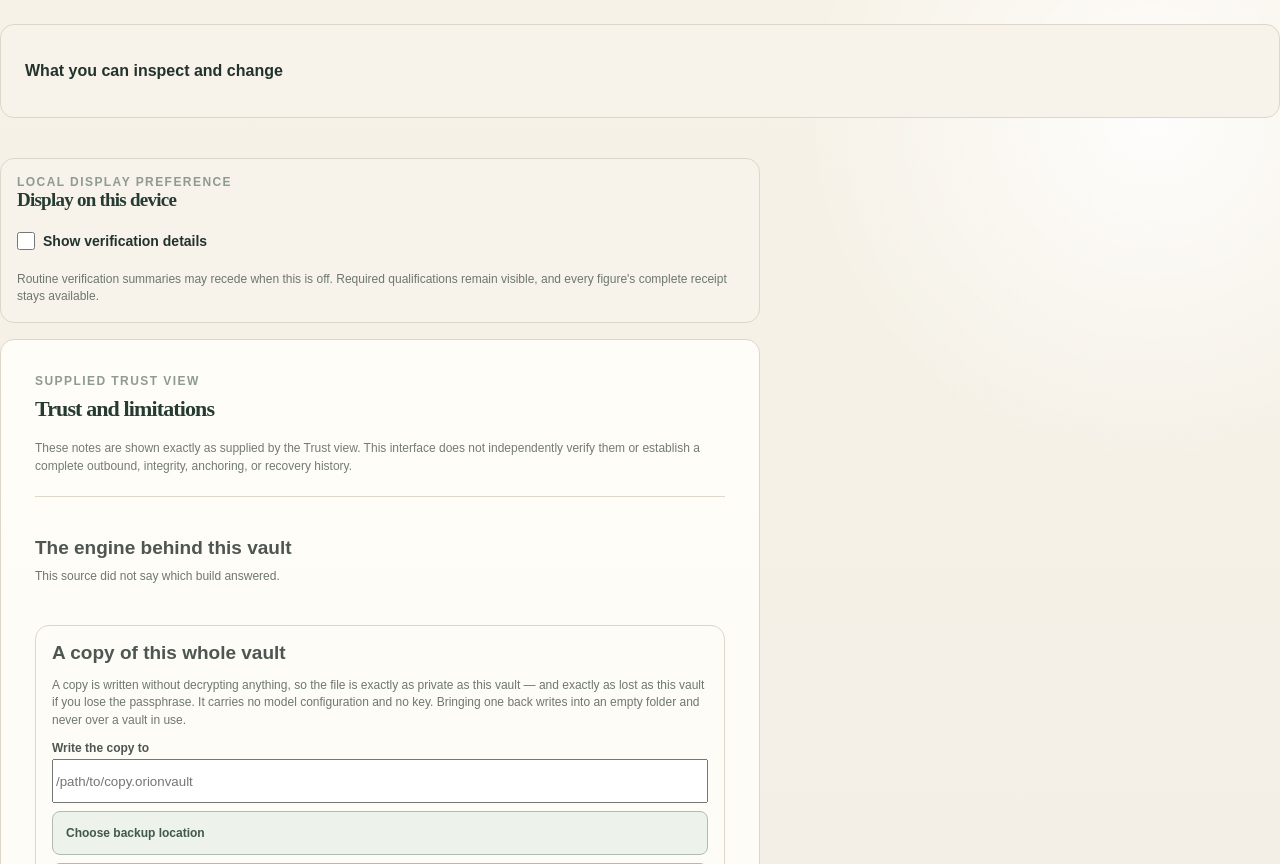
Test: a copy of a whole vault › preserves cancellation and makes chooser errors retryable without exposing details
The image size is (1280, 864).
Type "/copies/manual.orionvault" into the field labelled "Write the copy to" at (380,781), box [52,759,708,803]
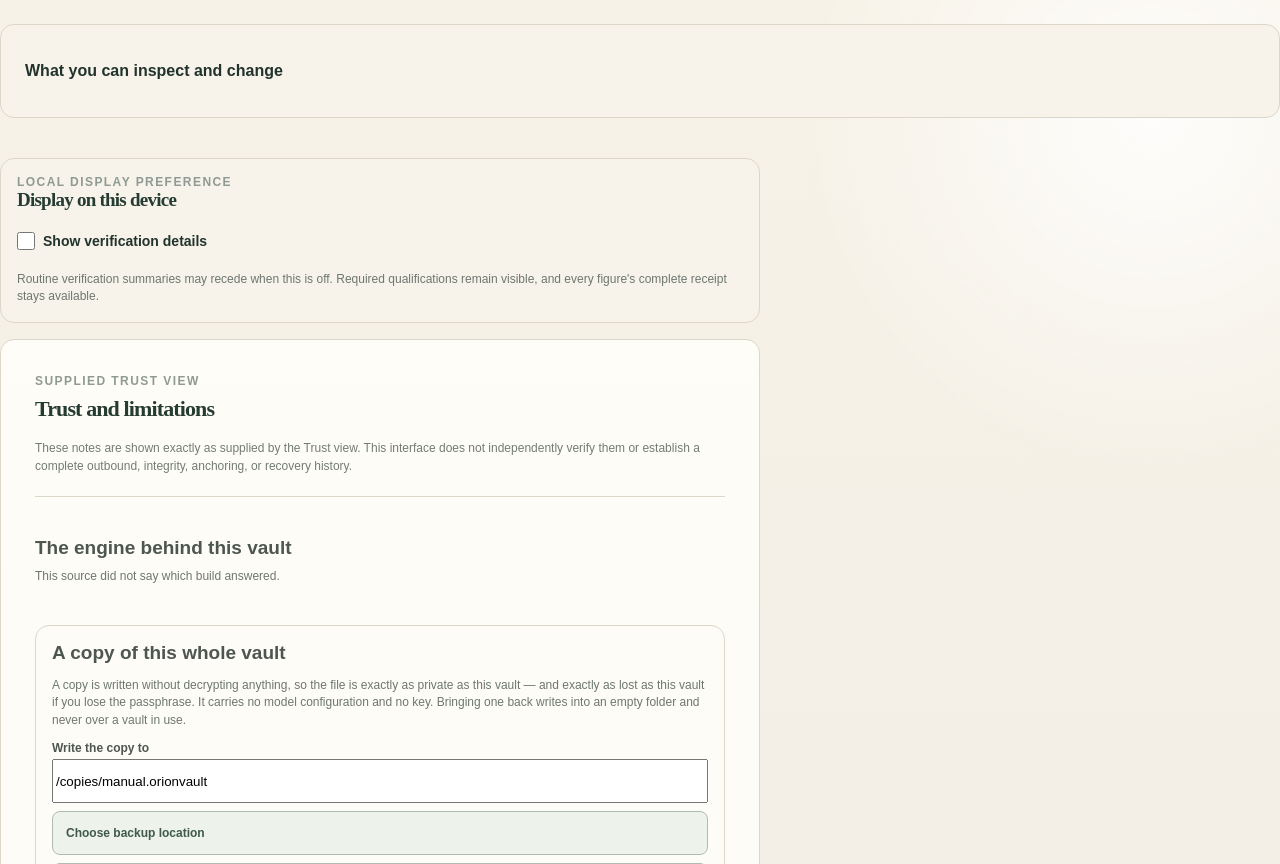
Click the button "Choose backup location" at (135,833), box [52,811,708,855]
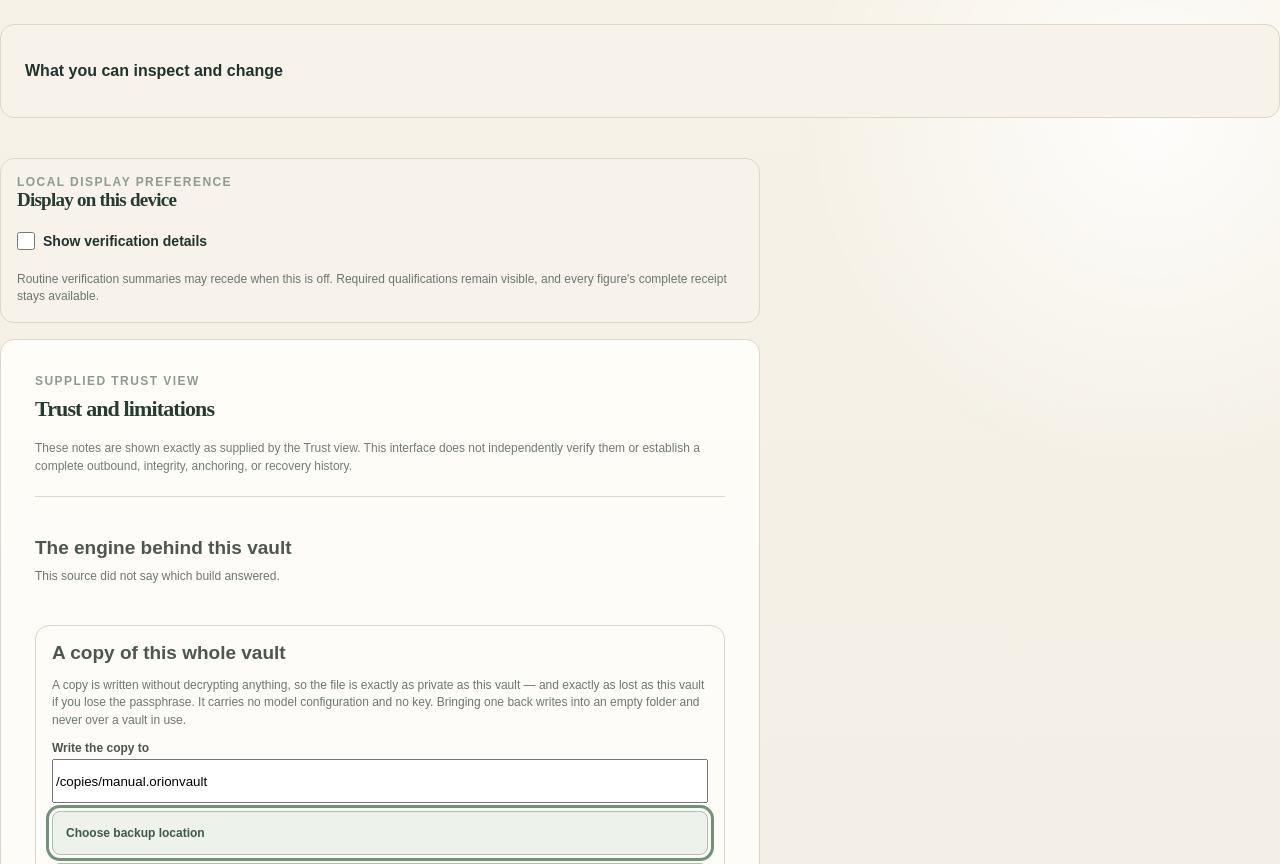
Click the button "Choose backup location" at (135,833), box [52,811,708,855]
(page scrolled)
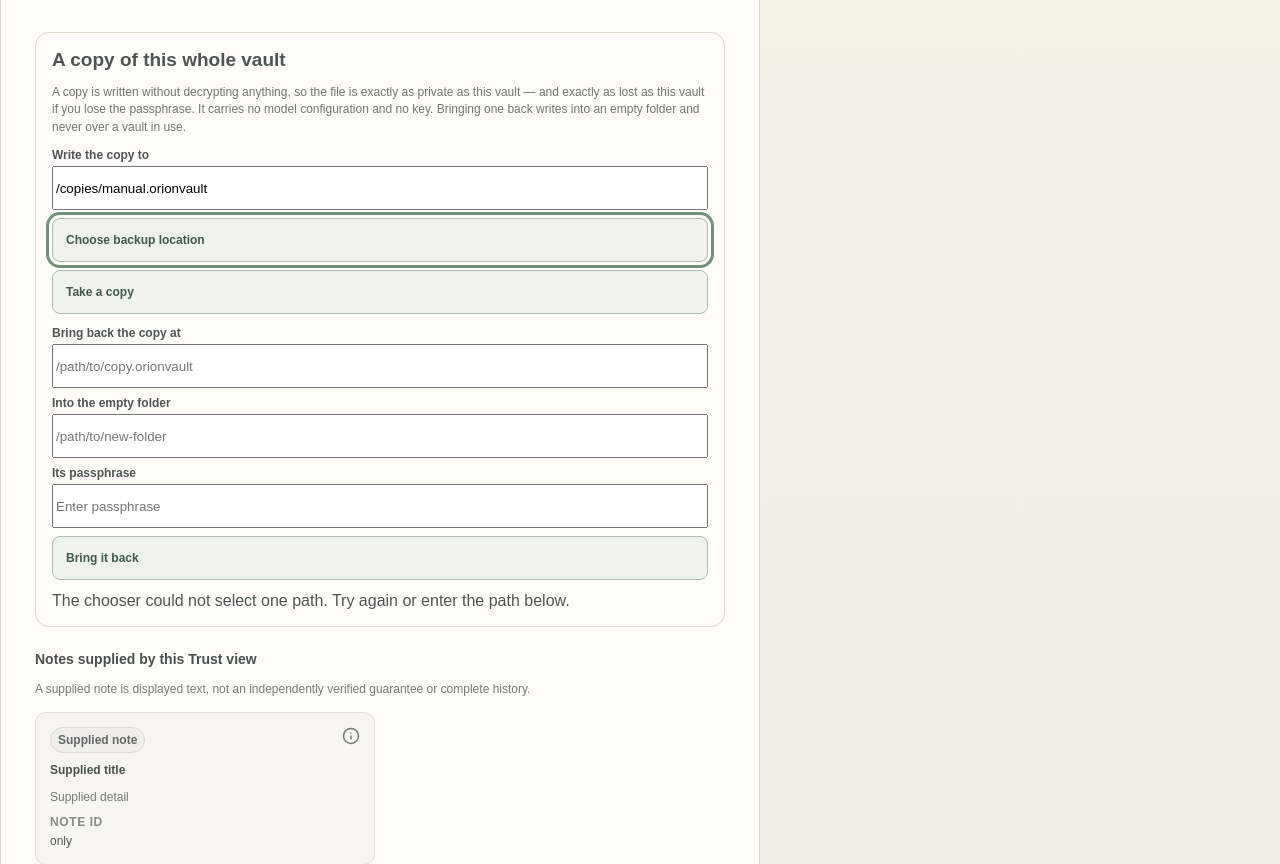
Now the text "The chooser could not select one path. Try again or enter the path below." is shown, box [52,592,570,609]
